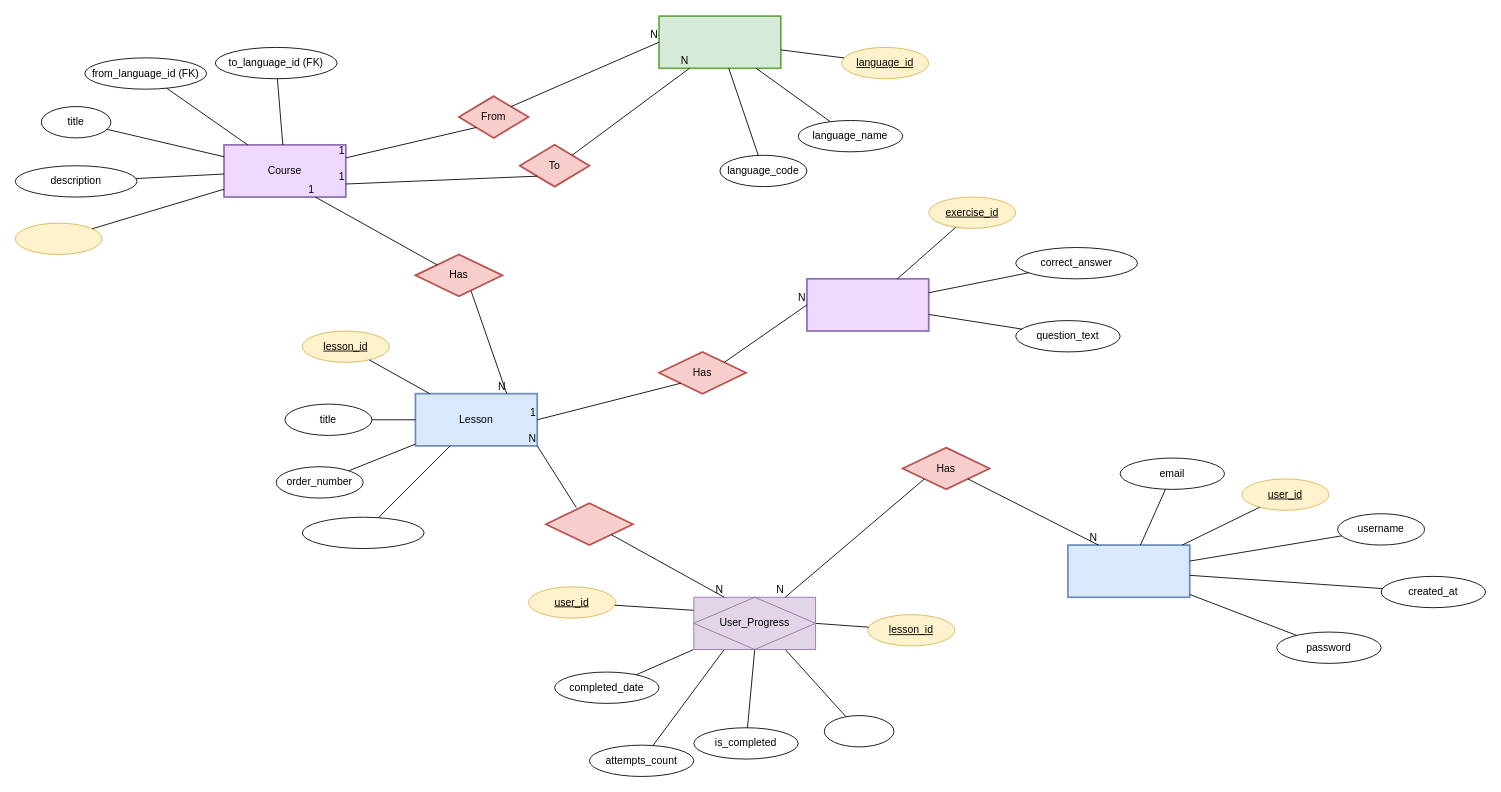
Image size: 1501x792. Some labels were removed from this diagram. The centre of each missing label's shape, as x and y in pixels:
"Completes" goes at point 589,523.
"course_id" goes at point 58,238.
"difficulty_level" goes at point 362,532.
"Exercise" goes at point 867,304.
"Language" goes at point 719,42.
"score" goes at point 858,731.
"User" goes at point 1128,571.
